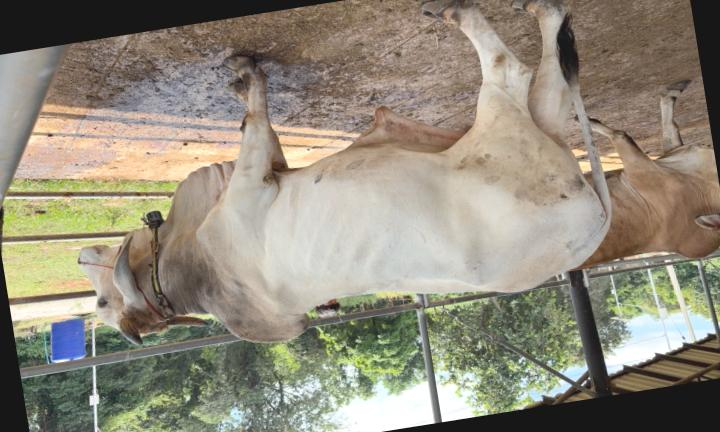Brahman: (80, 0, 612, 343)
